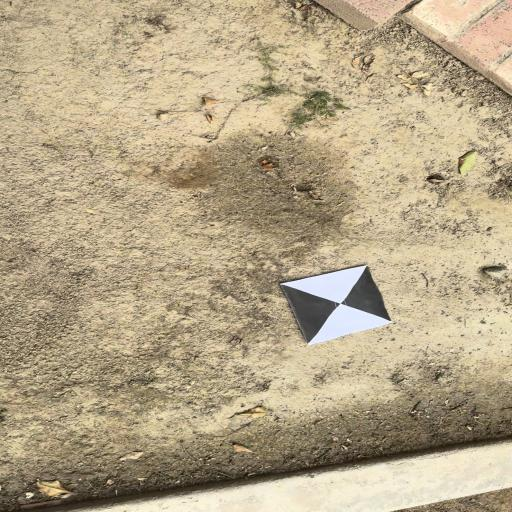target: (280, 266, 392, 345)
